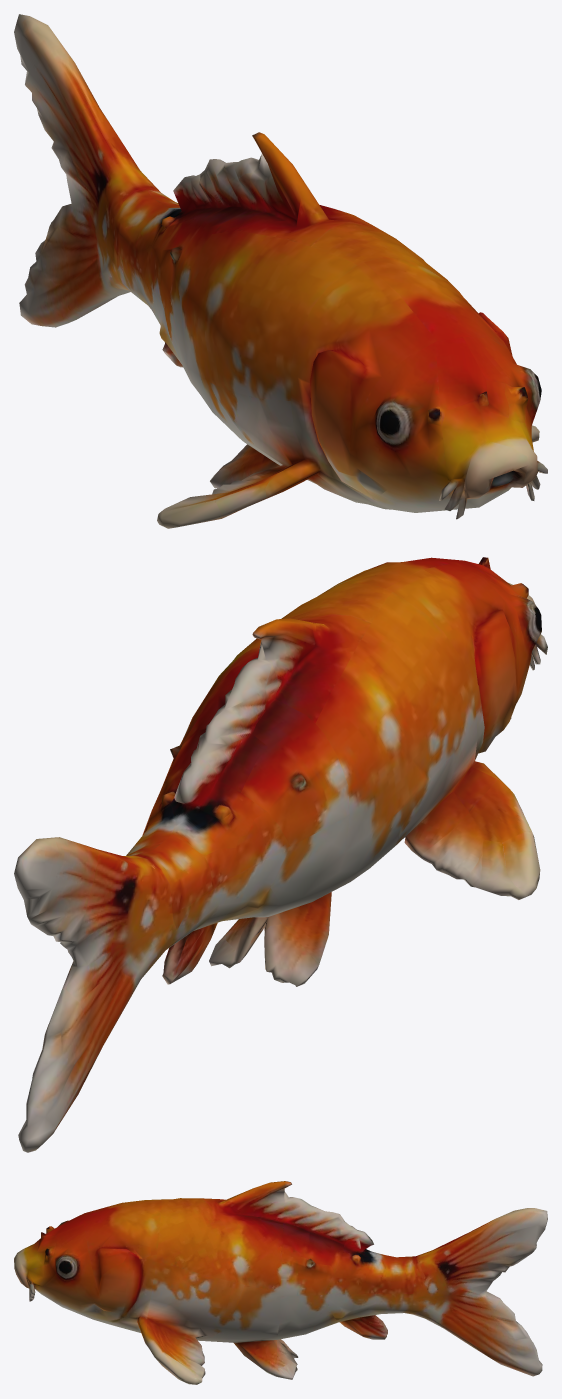
File: fish-koi.glb
3 views of the same model, one above another, from view 1: azimuth 30°, elevation 25°; view 2: azimuth 150°, elevation 25°; view 3: azimuth 270°, elevation 25° (orthographic). The views are drawn at different scales.
Visible parts, largest first — view 1: tripo_node_55c42bfa-3a44-4c2c-a311-bc831c935bab; view 2: tripo_node_55c42bfa-3a44-4c2c-a311-bc831c935bab; view 3: tripo_node_55c42bfa-3a44-4c2c-a311-bc831c935bab.
Part boxes in pixels (x1,y1,x2,y2): tripo_node_55c42bfa-3a44-4c2c-a311-bc831c935bab: (14,14,547,528); tripo_node_55c42bfa-3a44-4c2c-a311-bc831c935bab: (14,557,547,1152); tripo_node_55c42bfa-3a44-4c2c-a311-bc831c935bab: (14,1181,547,1384).
Size of the model in its own units: 0.4386 by 0.3999 by 0.9992.
Materials: 1 (1 with a texture image).
